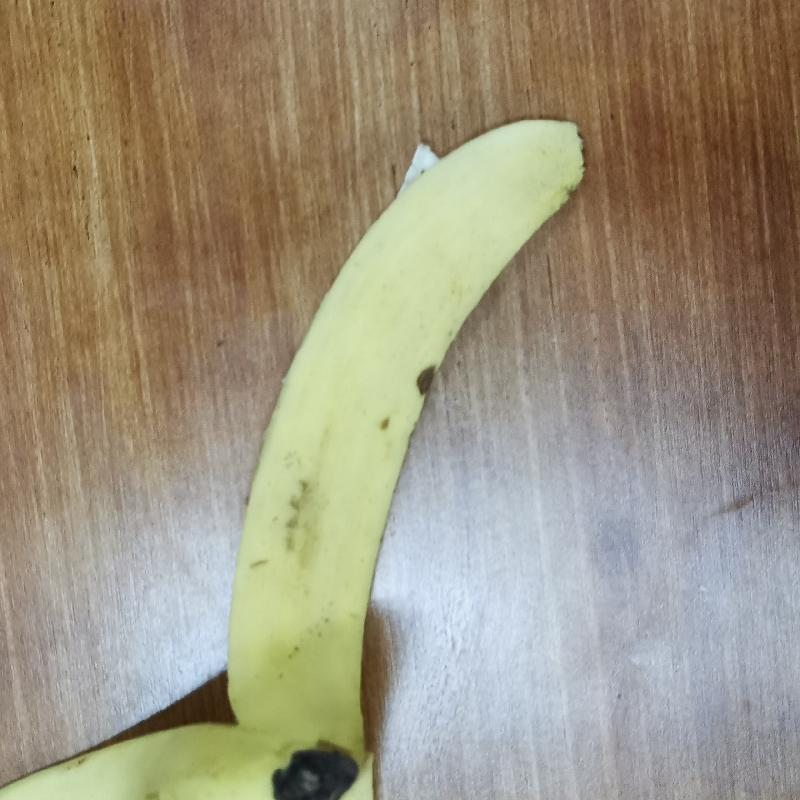bananas: (0, 117, 592, 800)
